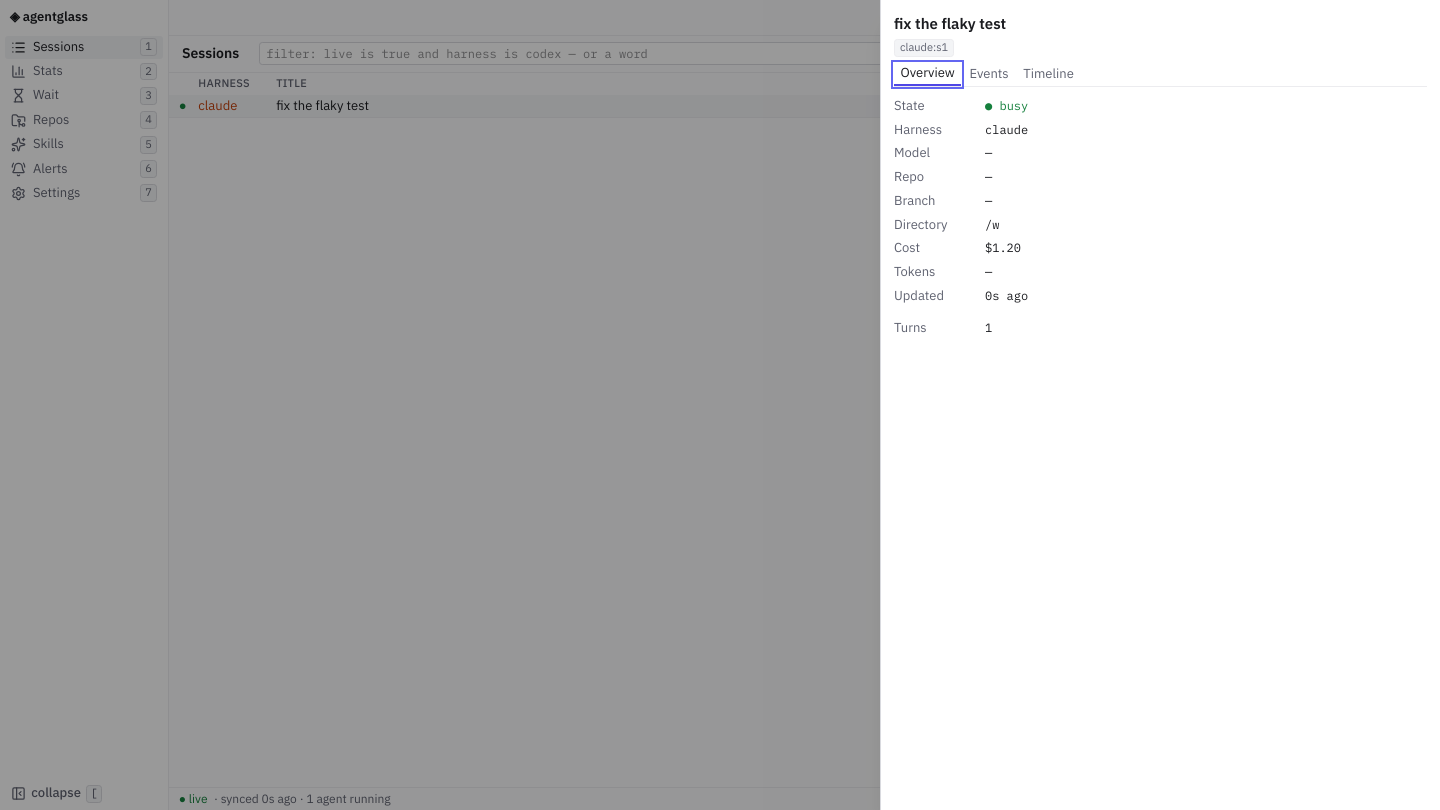
the Timeline tab: graph.get for the session, the summary, the timeline
Click the tab "timeline" at coordinates (1049, 75), box left=1017, top=63, right=1080, bottom=86
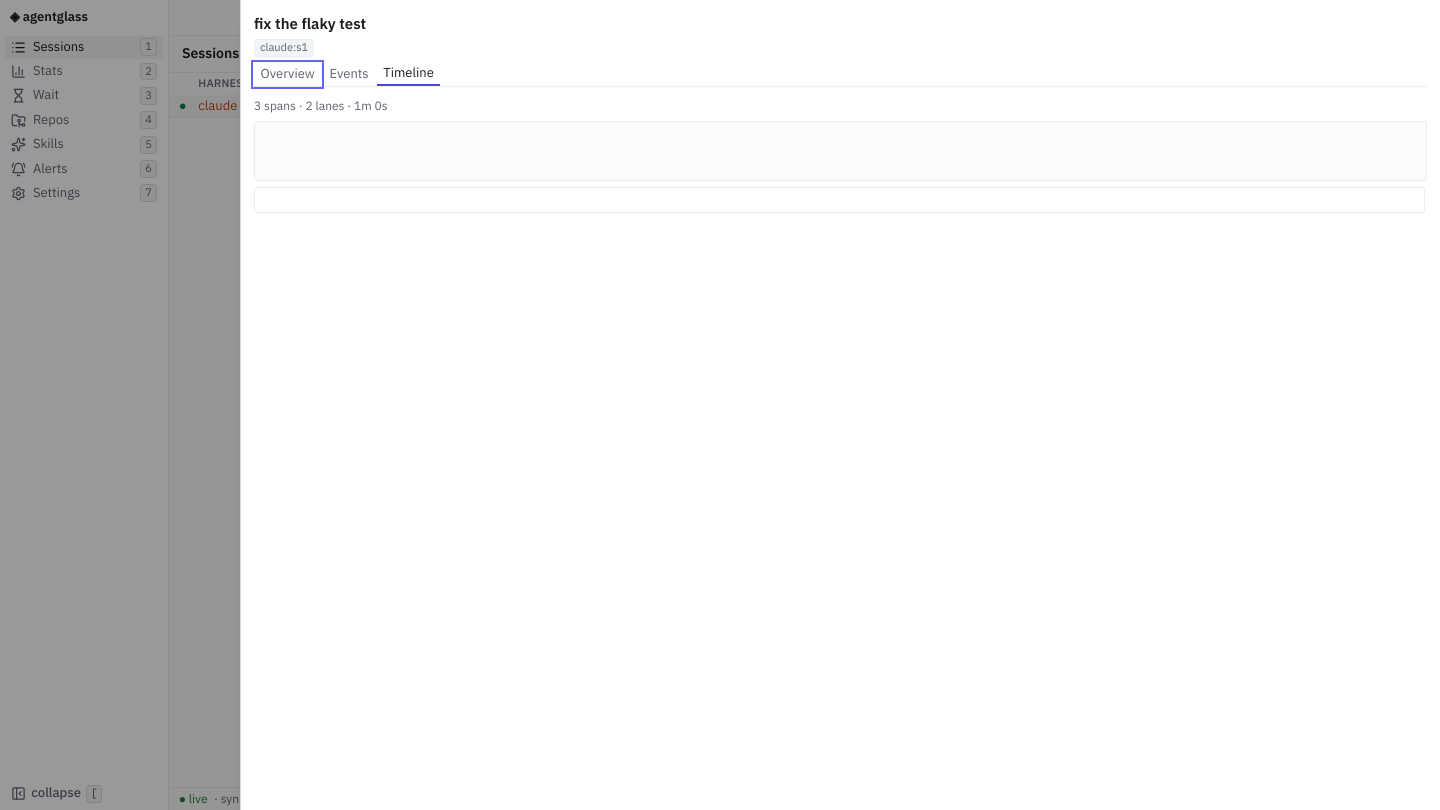
Check: the text "3 spans · 2 lanes · 1m 0s" is shown, box left=254, top=98, right=388, bottom=113
